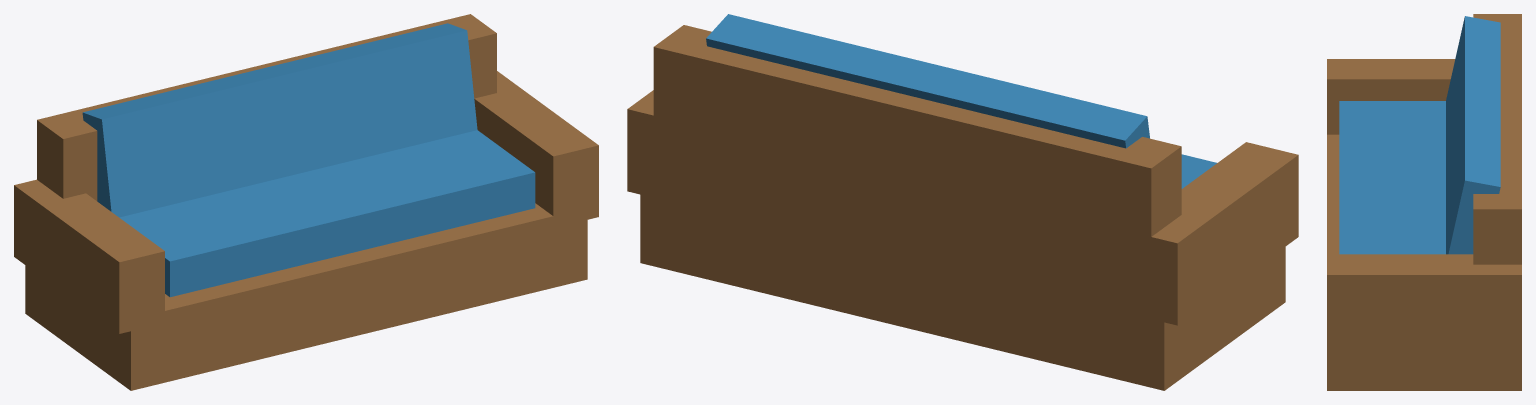
Rendered from patio_patio_sofa.glb.
3 renders of one model, left to right at view 1: azimuth 30°, elevation 25°; view 2: azimuth 150°, elevation 25°; view 3: azimuth 270°, elevation 25°, orthographic. The views are drawn at different scales.
Parts seen in each view (by area): view 1: patio_sofa; view 2: patio_sofa; view 3: patio_sofa.
Part boxes in pixels (left/top/right/bottom): patio_sofa: left=14, top=14, right=598, bottom=390; patio_sofa: left=627, top=14, right=1298, bottom=390; patio_sofa: left=1327, top=14, right=1521, bottom=390.
Bounding box in the file's own units: 2.1 × 0.8609 × 0.8.
